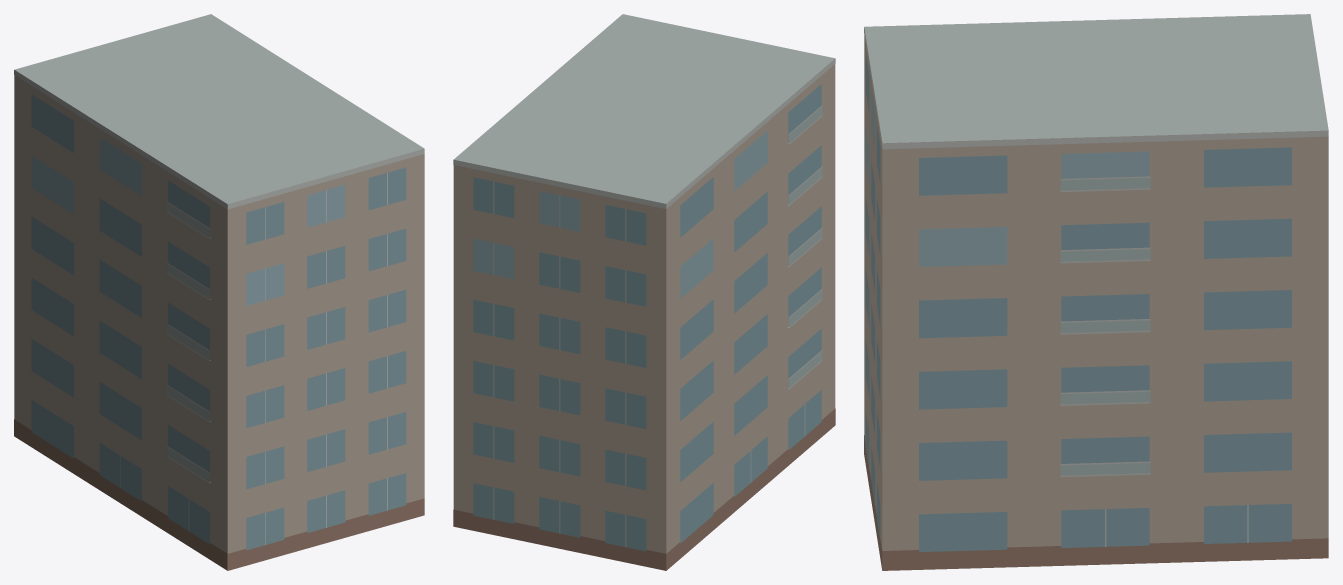
The model's file is survey-upis-32628451.glb.
3 views of the same model, side by side, from view 1: azimuth 30°, elevation 25°; view 2: azimuth 150°, elevation 25°; view 3: azimuth 270°, elevation 25° (orthographic). The views are drawn at different scales.
Parts seen in each view (by area): view 1: survey-upis-32628451.tmp; view 2: survey-upis-32628451.tmp; view 3: survey-upis-32628451.tmp.
Part boxes in pixels (x1=…): survey-upis-32628451.tmp: x1=14, y1=14, x2=424, y2=570; survey-upis-32628451.tmp: x1=453, y1=14, x2=835, y2=570; survey-upis-32628451.tmp: x1=864, y1=14, x2=1328, y2=570.
Size of the model in its own units: 11.16 by 17.2 by 16.94.
